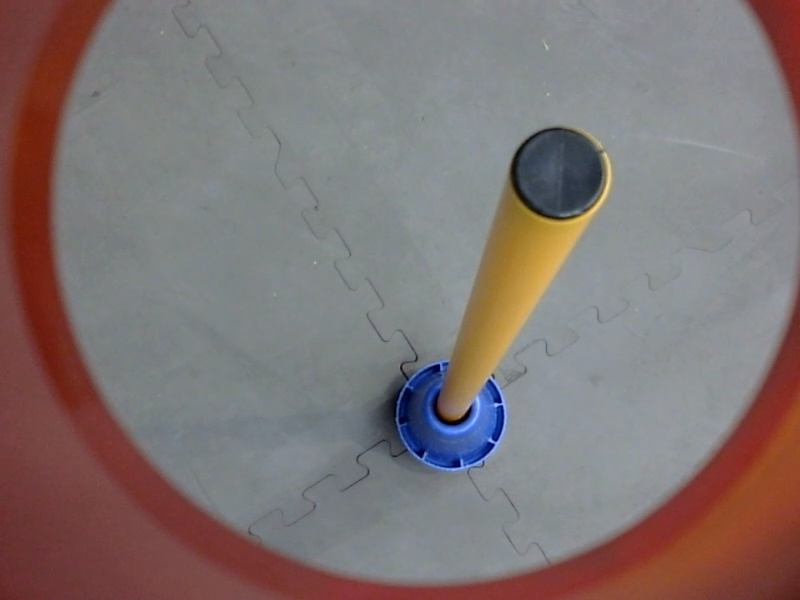tip: (500, 121, 622, 227)
